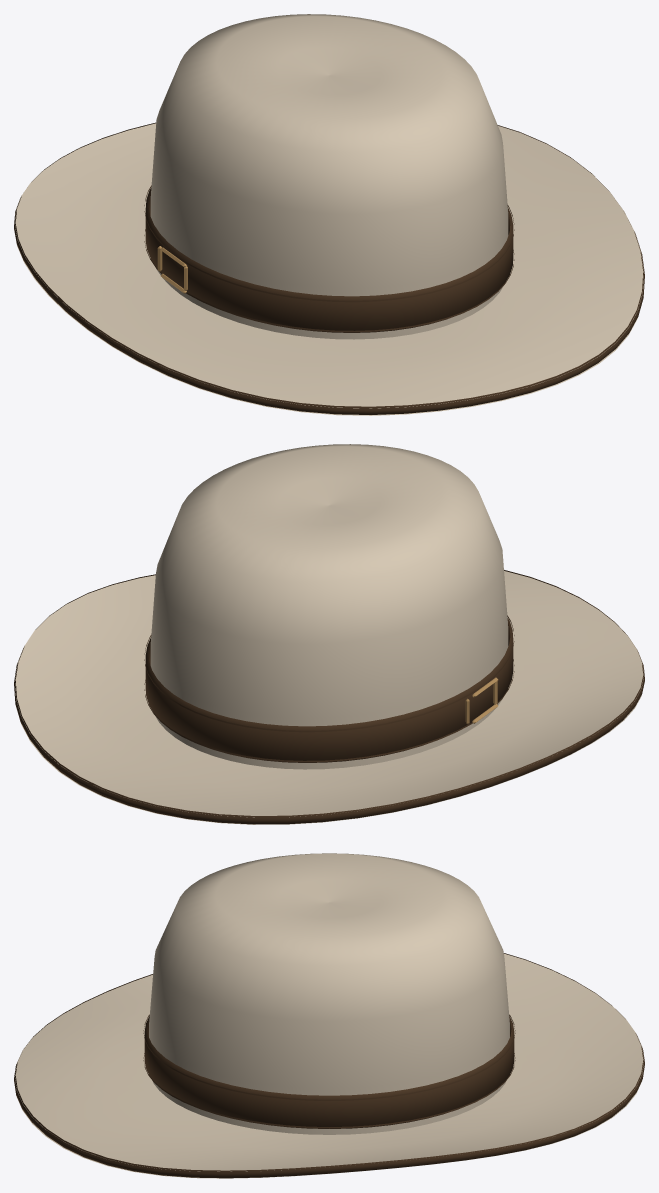
The model's file is plainsman.glb.
3 views of the same model, one above another, from view 1: azimuth 30°, elevation 25°; view 2: azimuth 150°, elevation 25°; view 3: azimuth 270°, elevation 25° (orthographic). The views are drawn at different scales.
Parts seen in each view (by area): view 1: Felt crown, Felt upper brim, Fitted hatband, Bound brim edge, Felt under brim, Sewn band border.001, Sewn band border; view 2: Felt crown, Felt upper brim, Fitted hatband, Bound brim edge, Sewn band border.001, Sewn band border, Felt under brim; view 3: Felt crown, Felt upper brim, Fitted hatband, Bound brim edge, Sewn band border.001, Sewn band border, Felt under brim.
Boxes of the visible parts, x1,y1,x2,y2 form: Felt crown: [150, 14, 508, 339]; Felt upper brim: [15, 123, 644, 408]; Fitted hatband: [145, 188, 513, 332]; Bound brim edge: [14, 122, 644, 414]; Felt under brim: [17, 246, 637, 415]; Sewn band border.001: [144, 185, 514, 302]; Sewn band border: [144, 229, 514, 332]; Felt crown: [150, 444, 508, 769]; Felt upper brim: [15, 571, 643, 817]; Fitted hatband: [145, 618, 513, 762]; Bound brim edge: [14, 570, 644, 824]; Sewn band border.001: [144, 615, 514, 732]; Sewn band border: [144, 659, 514, 762]; Felt under brim: [21, 695, 641, 824]; Felt crown: [149, 853, 509, 1134]; Felt upper brim: [15, 953, 643, 1171]; Fitted hatband: [144, 1016, 514, 1128]; Bound brim edge: [14, 953, 644, 1178]; Sewn band border.001: [143, 1014, 515, 1100]; Sewn band border: [143, 1053, 515, 1128]; Felt under brim: [17, 1080, 642, 1178].
Bounding box in the file's own units: 0.3008 × 0.1144 × 0.3429.
